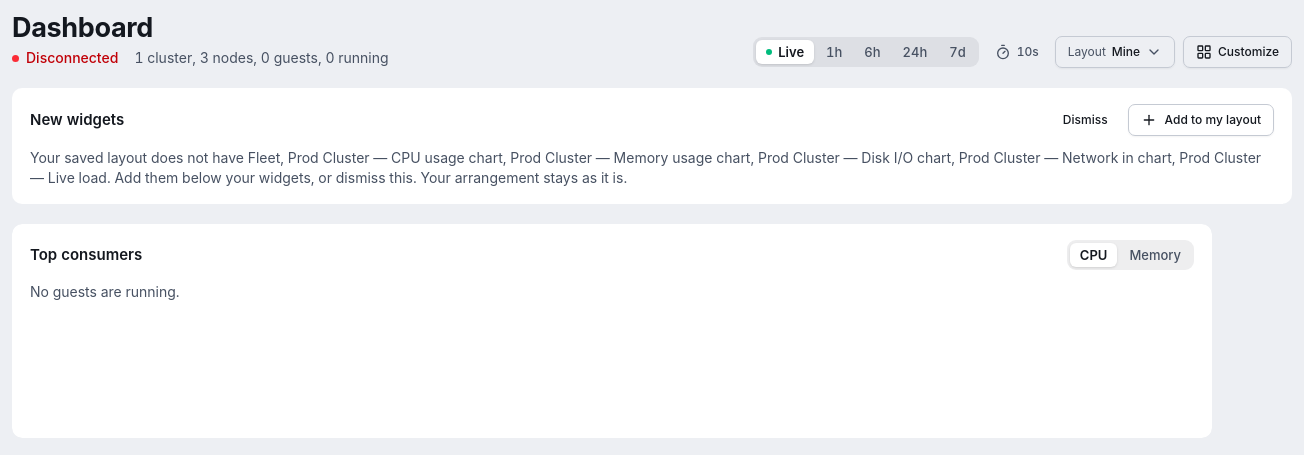
Scenario: DashboardPage › the offer of widgets a saved layout lacks › Dismiss records the offer and closes it
Expected: the text "does not have Fleet" is shown, [30, 149, 1261, 186]
Click the button "Dismiss" at (1085, 120), box [1051, 104, 1120, 136]
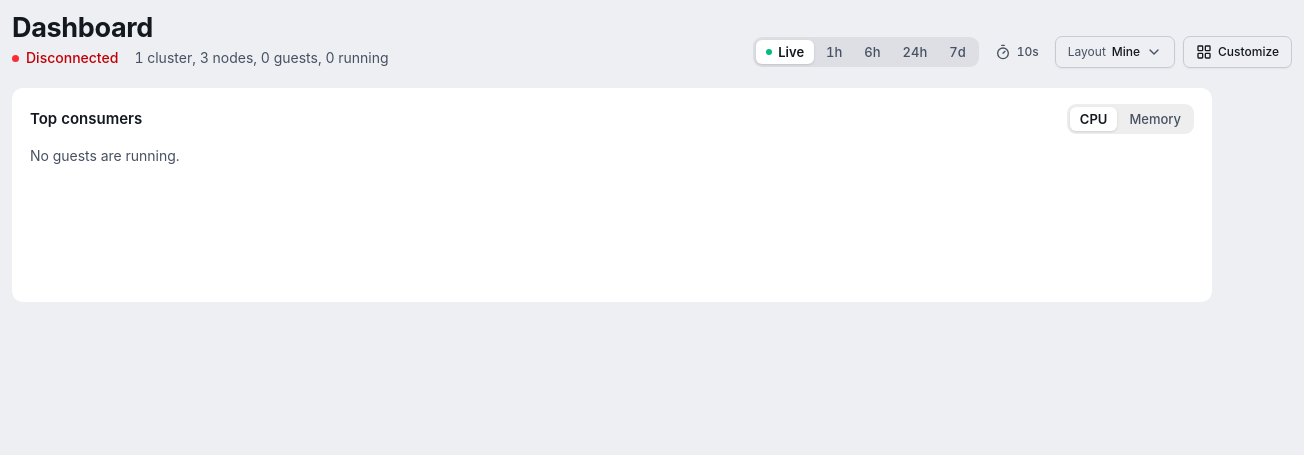
Expected: the text "does not have Fleet" is gone
